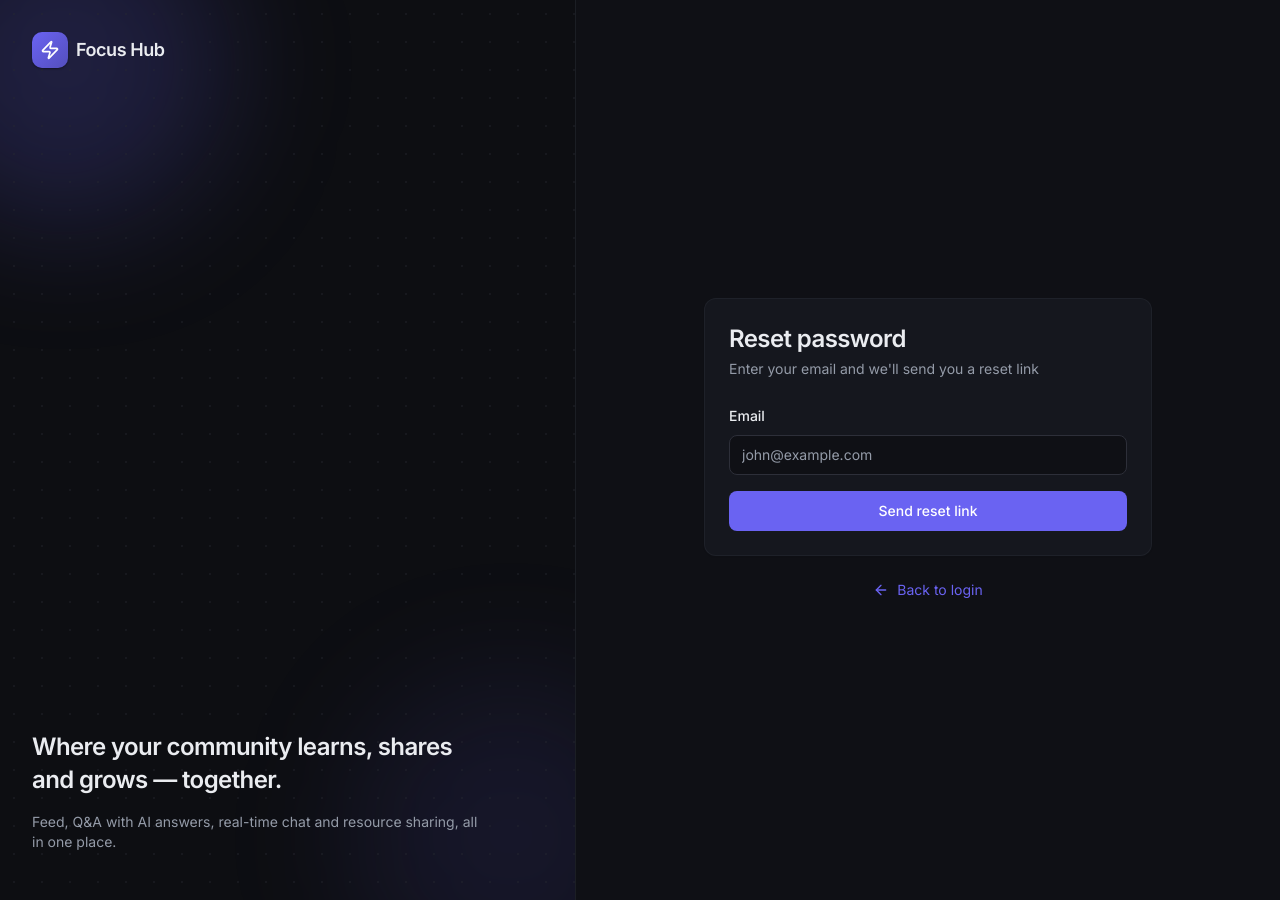
ForgotPassword page › shows the success confirmation screen when the reset email is sent
Type "user@example.com" into the field labelled "Email" at (928, 454), box [729,434,1127,474]
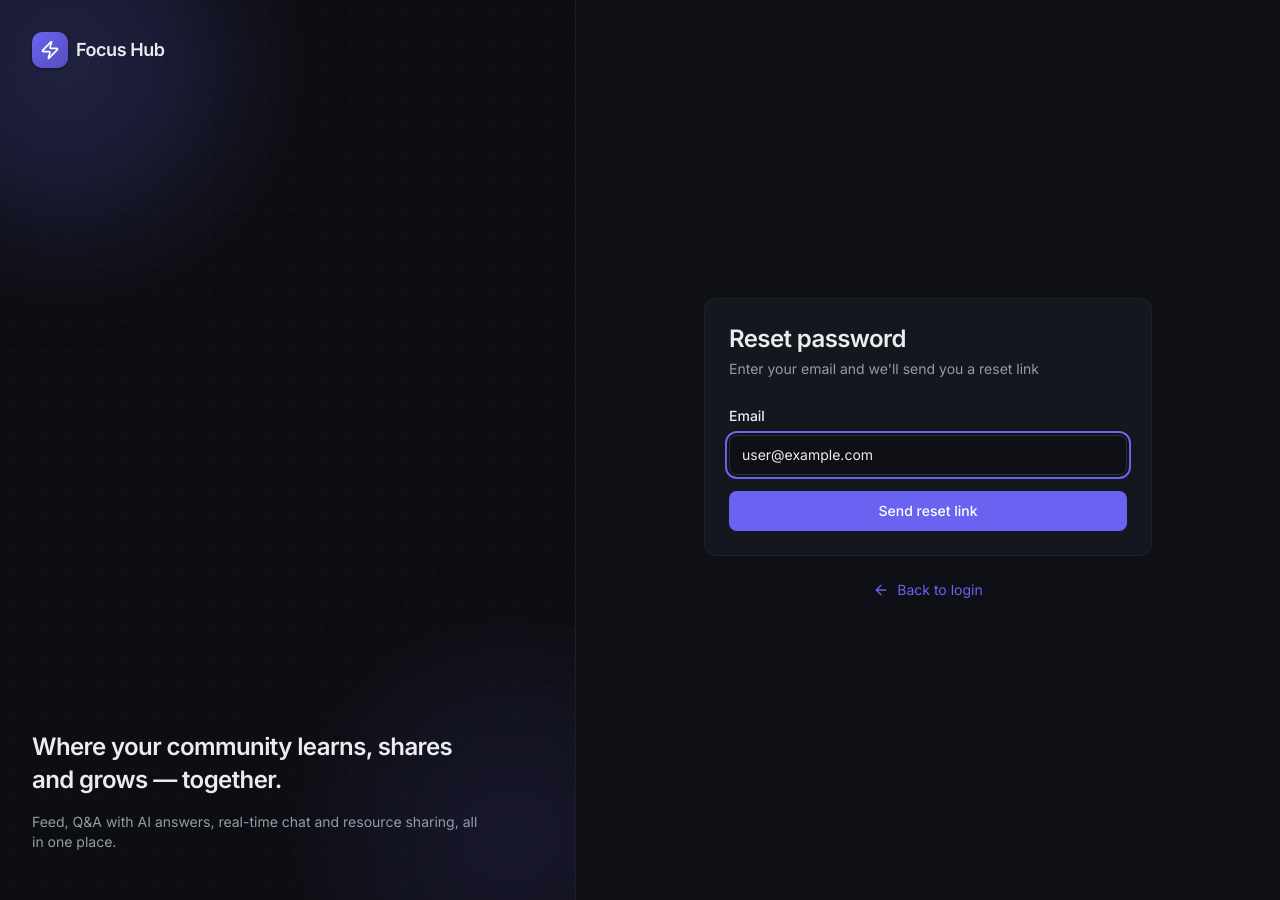
Click the button "Send reset link" at (928, 510), box [729,490,1127,530]
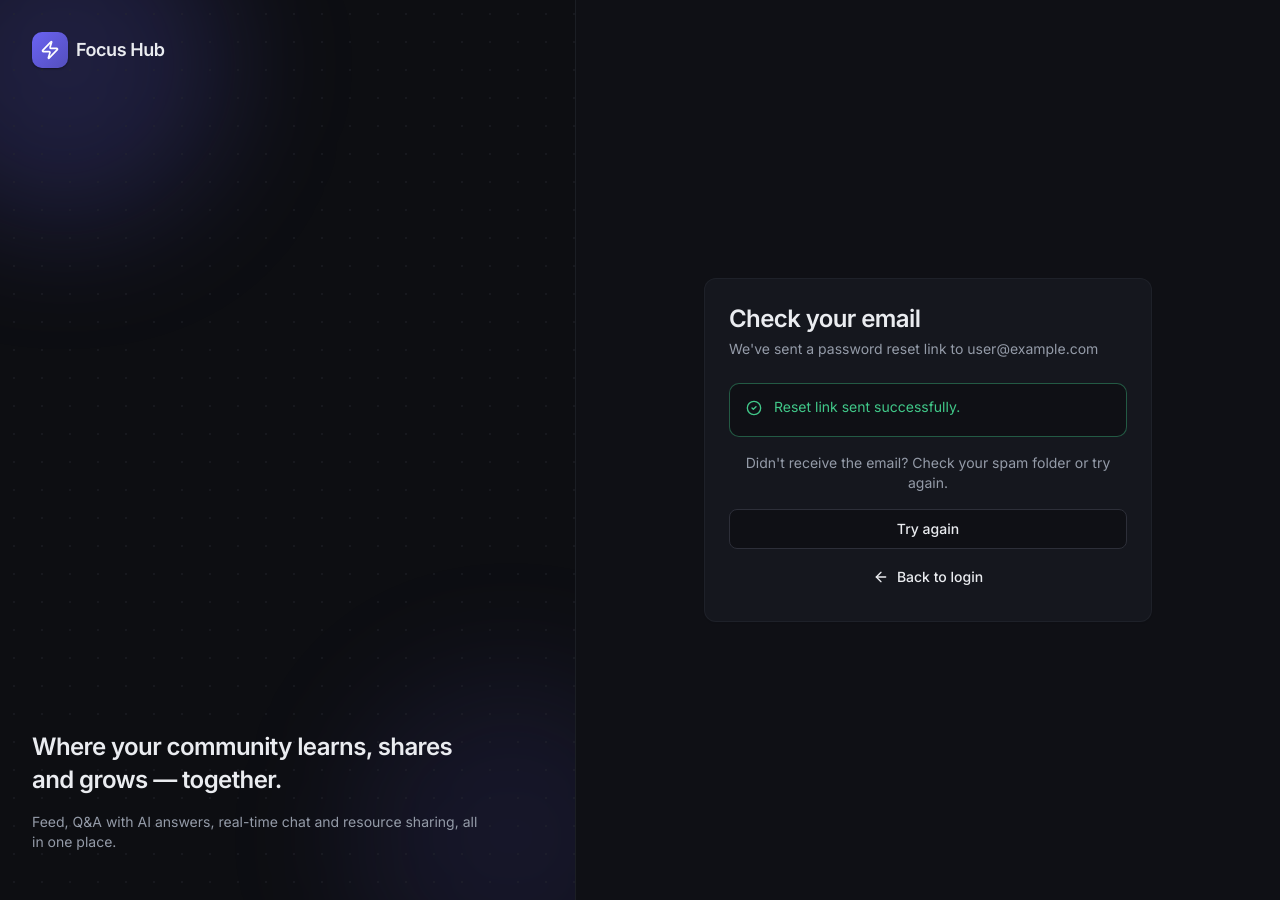
Now the text "Reset link sent successfully." is shown, box [774,398,960,415]
